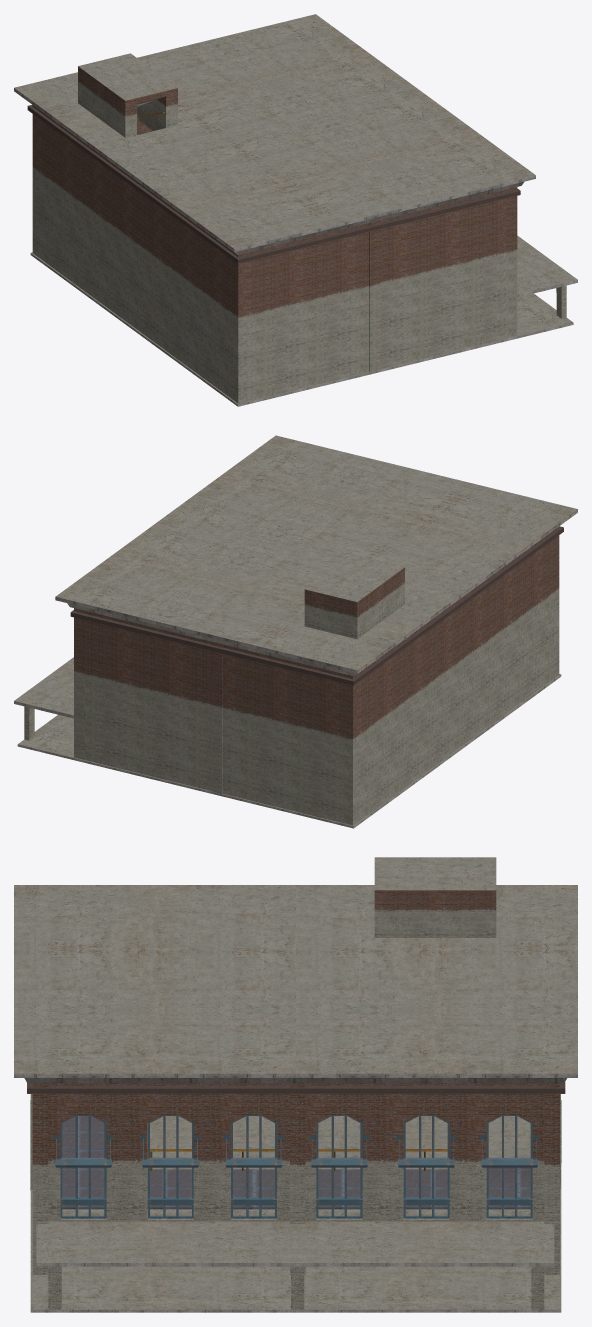
Rendered from Building_Factoryhouse02_2048.glb.
The picture shows the model from 3 angles, top to bottom: view 1: azimuth 30°, elevation 25°; view 2: azimuth 150°, elevation 25°; view 3: azimuth 270°, elevation 25°; orthographic projection. The views are drawn at different scales.
Parts seen in each view (by area): view 1: xiutz_factoryhouse_02; view 2: xiutz_factoryhouse_02; view 3: xiutz_factoryhouse_02.
Part boxes in pixels (box(x1,y1,x2,y2)): xiutz_factoryhouse_02: box(14, 14, 577, 406); xiutz_factoryhouse_02: box(14, 435, 577, 828); xiutz_factoryhouse_02: box(14, 857, 577, 1312).
Size of the model in its own units: 45.71 by 25.06 by 49.47.
Materials: 1 (1 with a texture image).
